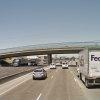Bridge: (4, 34, 83, 58)
